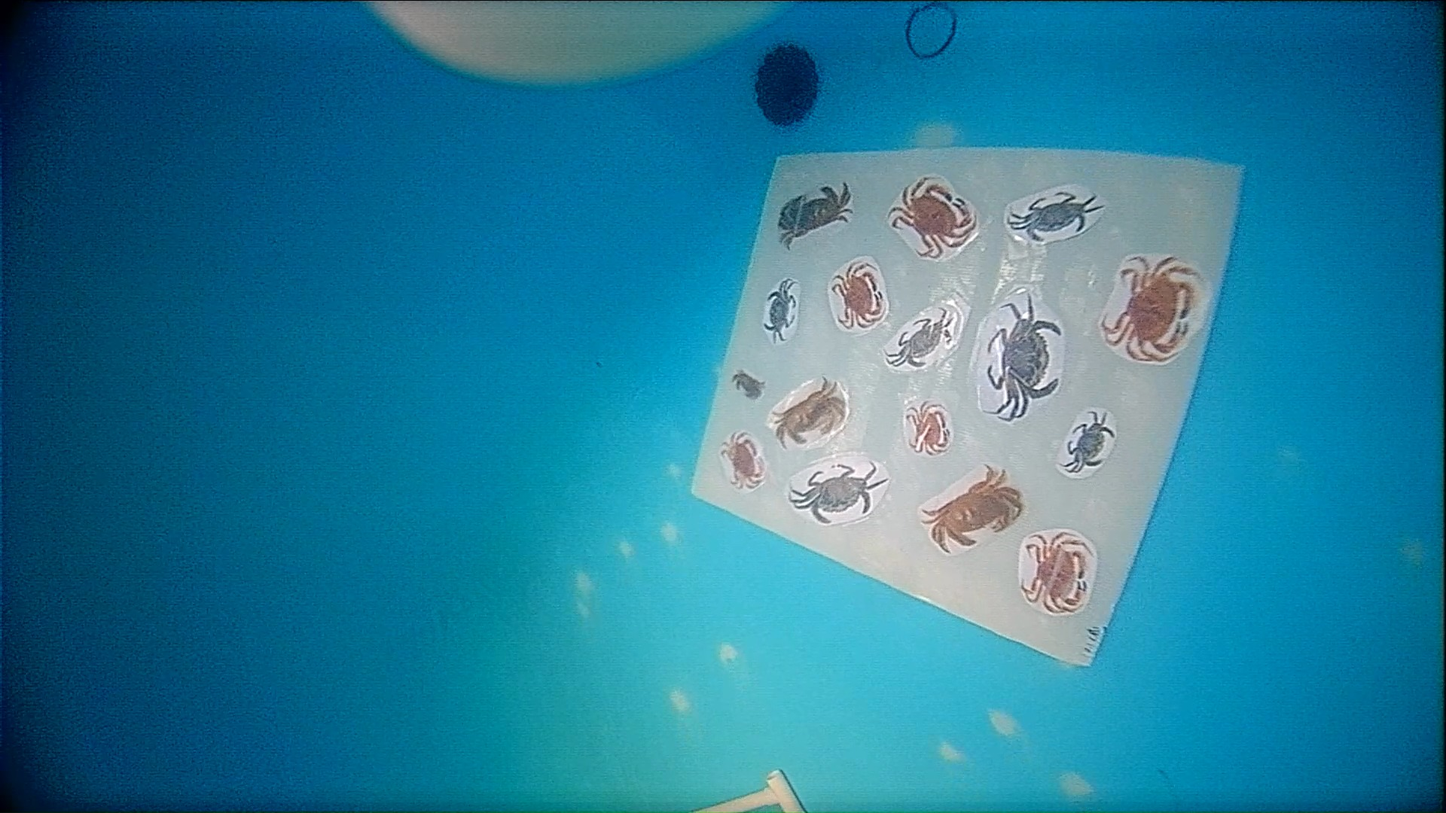GreenCrab: (987, 295, 1060, 420), (790, 464, 887, 524), (1008, 193, 1103, 242), (1063, 410, 1114, 473), (886, 317, 946, 367)
